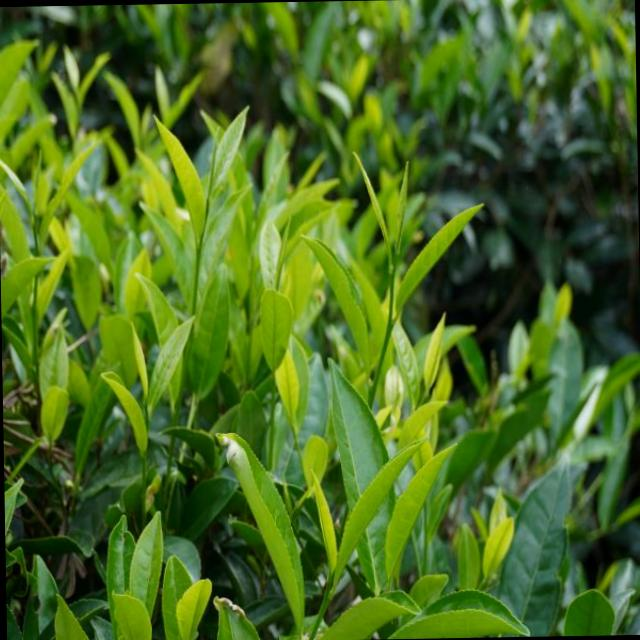Stem: (195, 247, 200, 260), (323, 593, 328, 602), (389, 273, 393, 282), (32, 225, 35, 234)
